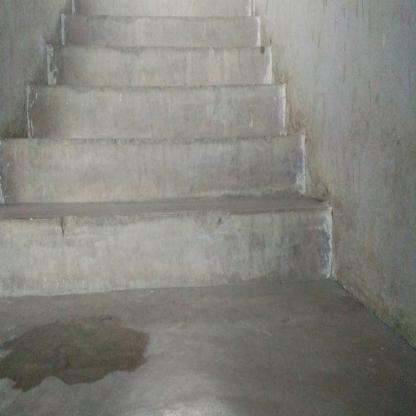stairs: (29, 85, 309, 293)
